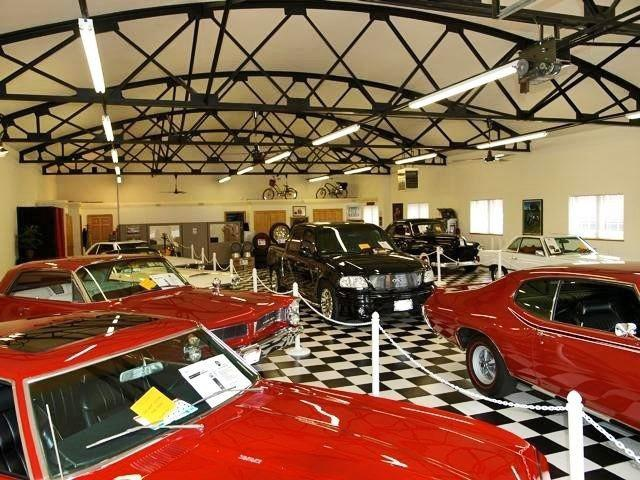non-vehicle: (262, 176, 297, 199), (314, 181, 349, 199)
